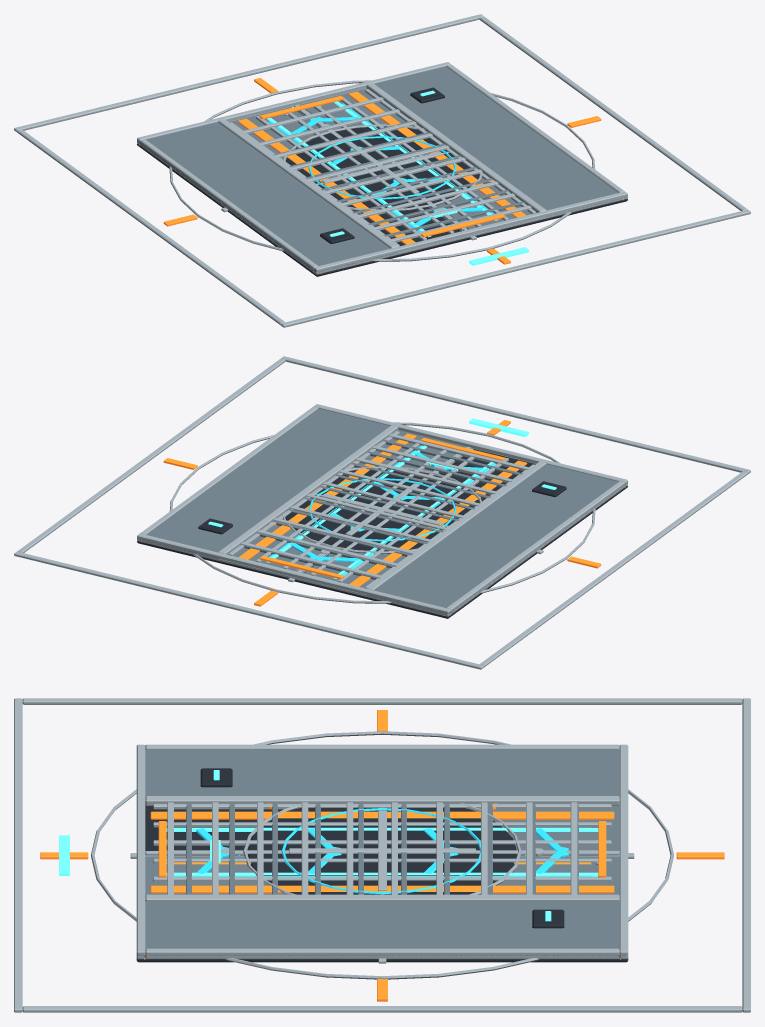
File: zap-floor-modular-48.glb
The picture shows the model from 3 angles, top to bottom: view 1: azimuth 30°, elevation 25°; view 2: azimuth 150°, elevation 25°; view 3: azimuth 270°, elevation 25°; orthographic projection. The views are drawn at different scales.
Visible parts, largest first — view 1: FLOOR_Trench_8m, FLOOR_Capture_12m, FLOOR_Grate_8m, FLOOR_Guide_8m, FLOOR_Hatch_8m, FLOOR_Panel_8m; view 2: FLOOR_Trench_8m, FLOOR_Capture_12m, FLOOR_Grate_8m, FLOOR_Guide_8m, FLOOR_Hatch_8m, FLOOR_Panel_8m; view 3: FLOOR_Trench_8m, FLOOR_Capture_12m, FLOOR_Grate_8m, FLOOR_Guide_8m, FLOOR_Hatch_8m, FLOOR_Panel_8m.
Part boxes in pixels (left/top/right/bottom): FLOOR_Trench_8m: left=137, top=62, right=627, bottom=272; FLOOR_Capture_12m: left=14, top=14, right=750, bottom=327; FLOOR_Grate_8m: left=137, top=86, right=627, bottom=272; FLOOR_Guide_8m: left=137, top=88, right=627, bottom=276; FLOOR_Hatch_8m: left=275, top=119, right=495, bottom=217; FLOOR_Panel_8m: left=139, top=88, right=626, bottom=276; FLOOR_Trench_8m: left=137, top=404, right=627, bottom=614; FLOOR_Capture_12m: left=14, top=356, right=750, bottom=669; FLOOR_Grate_8m: left=137, top=428, right=627, bottom=614; FLOOR_Guide_8m: left=137, top=430, right=627, bottom=618; FLOOR_Hatch_8m: left=269, top=461, right=489, bottom=555; FLOOR_Panel_8m: left=137, top=430, right=615, bottom=617; FLOOR_Trench_8m: left=136, top=744, right=628, bottom=956; FLOOR_Capture_12m: left=14, top=698, right=750, bottom=1012; FLOOR_Grate_8m: left=136, top=803, right=628, bottom=956; FLOOR_Guide_8m: left=136, top=811, right=628, bottom=962; FLOOR_Hatch_8m: left=210, top=803, right=544, bottom=894; FLOOR_Panel_8m: left=137, top=805, right=627, bottom=961.
Size of the model in its own units: 12 by 0.26 by 12.
